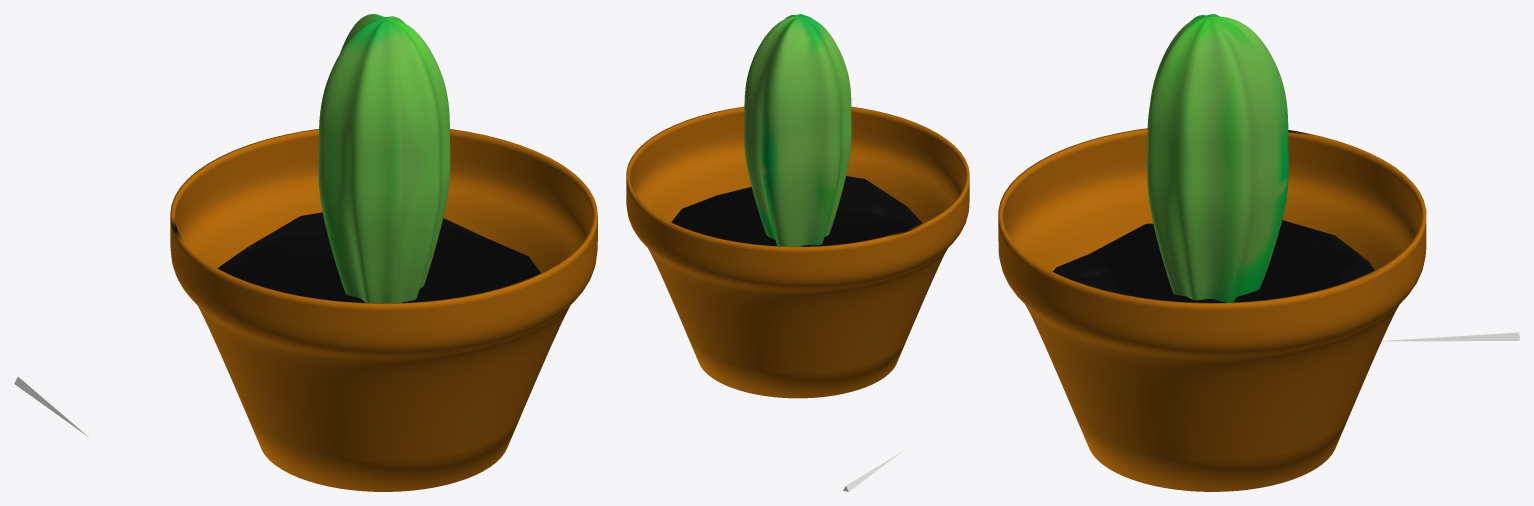
Rendered from cactus.fbx.
3 renders of one model, left to right at view 1: azimuth 30°, elevation 25°; view 2: azimuth 150°, elevation 25°; view 3: azimuth 270°, elevation 25°, orthographic. The views are drawn at different scales.
Visible parts, largest first — view 1: Cube, cactus, ground; view 2: Cube, cactus, ground; view 3: Cube, cactus, ground, Cone.
Boxes of the visible parts, x1,y1,x2,y2 form: Cube: (170,129,597,491); cactus: (318,14,450,303); ground: (217,212,540,302); Cube: (626,106,969,398); cactus: (744,14,851,246); ground: (671,176,922,246); Cube: (998,128,1426,491); cactus: (1147,14,1288,302); ground: (1052,220,1374,302); Cone: (1382,332,1519,341).
Bounding box in the file's own units: 111 × 113 × 124.
